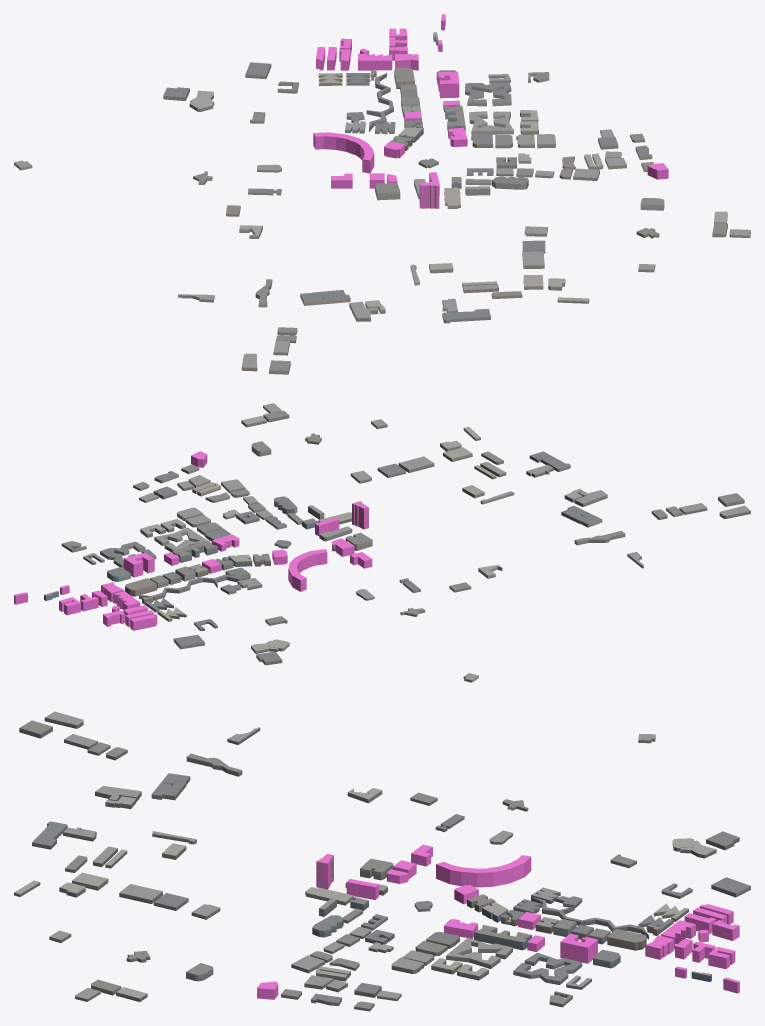
Rendered from bld_12_11.fbx.
3 views of the same model, one above another, from view 1: azimuth 30°, elevation 25°; view 2: azimuth 150°, elevation 25°; view 3: azimuth 270°, elevation 25° (orthographic). The views are drawn at different scales.
Visible parts, largest first — view 1: bld_12_11_LOD0, bld_12_11_COL; view 2: bld_12_11_LOD0, bld_12_11_COL; view 3: bld_12_11_LOD0, bld_12_11_COL.
Part boxes in pixels (bbox=[...]): bld_12_11_LOD0: bbox=[14, 32, 750, 374]; bld_12_11_COL: bbox=[313, 14, 668, 208]; bld_12_11_LOD0: bbox=[44, 403, 750, 682]; bld_12_11_COL: bbox=[14, 451, 372, 630]; bld_12_11_LOD0: bbox=[14, 711, 750, 1011]; bld_12_11_COL: bbox=[257, 844, 739, 999].
Size of what is drawn, in the model's own units: 1978 by 80.04 by 2079.
